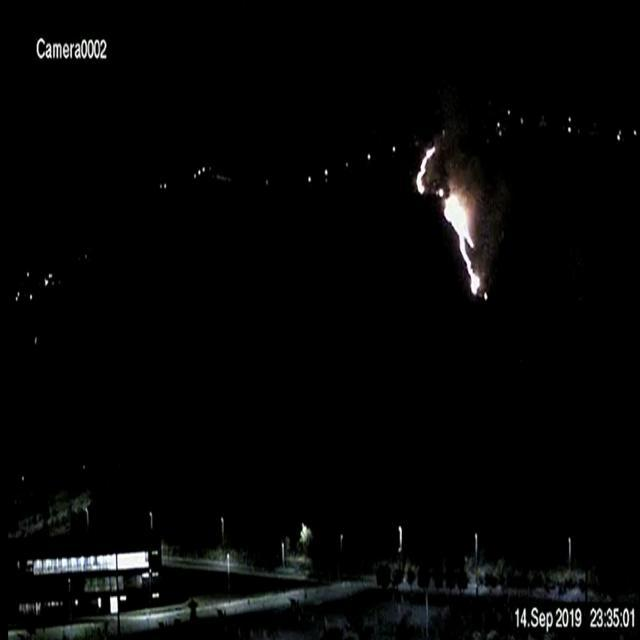Fire: (408, 142, 487, 300)
